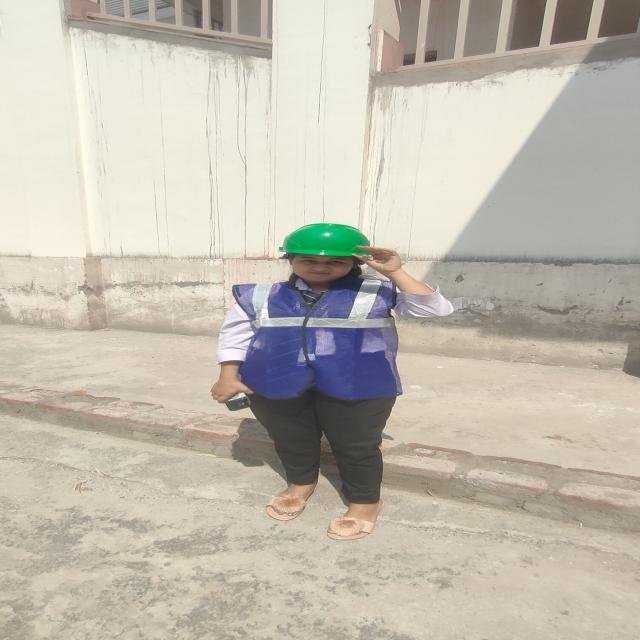safe: (232, 223, 403, 540)
